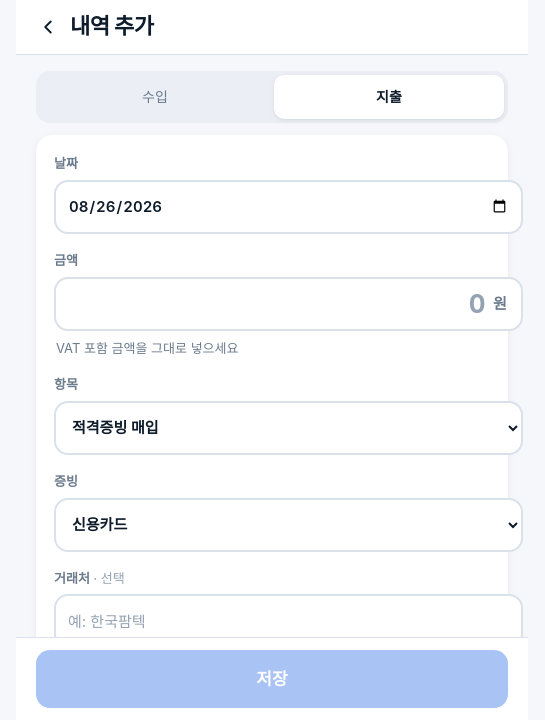
Scenario: EntryForm — 수입/지출 전환 › 수입으로 바꾸면 증빙 칸이 사라지고 항목이 수입 항목으로 초기화된다
Check: the dropdown labelled "항목" shows "적격증빙 매입", box 54,401 -> 523,455
Check: the dropdown labelled "증빙" is shown, box 54,498 -> 523,552
Click the radio button labelled "수입" at (155, 97), box 40,75 -> 270,119
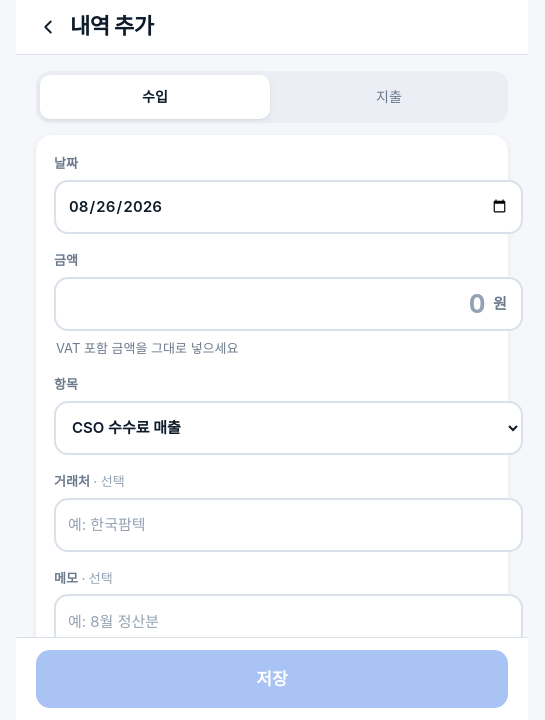
Check: the label labelled "증빙" is gone
Check: the dropdown labelled "항목" shows "CSO 수수료 매출", box 54,401 -> 523,455
